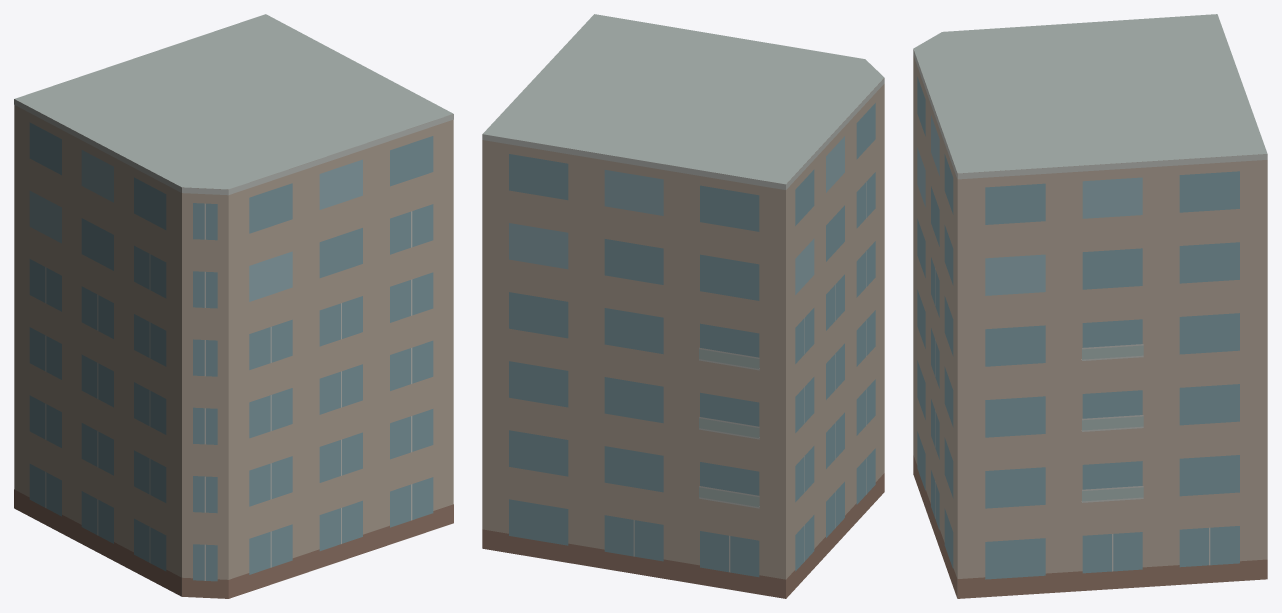
The model's file is survey-upis-32579759.glb.
3 renders of one model, left to right at view 1: azimuth 30°, elevation 25°; view 2: azimuth 150°, elevation 25°; view 3: azimuth 270°, elevation 25°, orthographic. The views are drawn at different scales.
Visible parts, largest first — view 1: survey-upis-32579759.tmp; view 2: survey-upis-32579759.tmp; view 3: survey-upis-32579759.tmp.
Part boxes in pixels (x1=…): survey-upis-32579759.tmp: x1=14, y1=14, x2=453, y2=598; survey-upis-32579759.tmp: x1=482, y1=14, x2=884, y2=598; survey-upis-32579759.tmp: x1=913, y1=14, x2=1267, y2=598.
Size of the model in its own units: 14 by 17.4 by 13.14.
